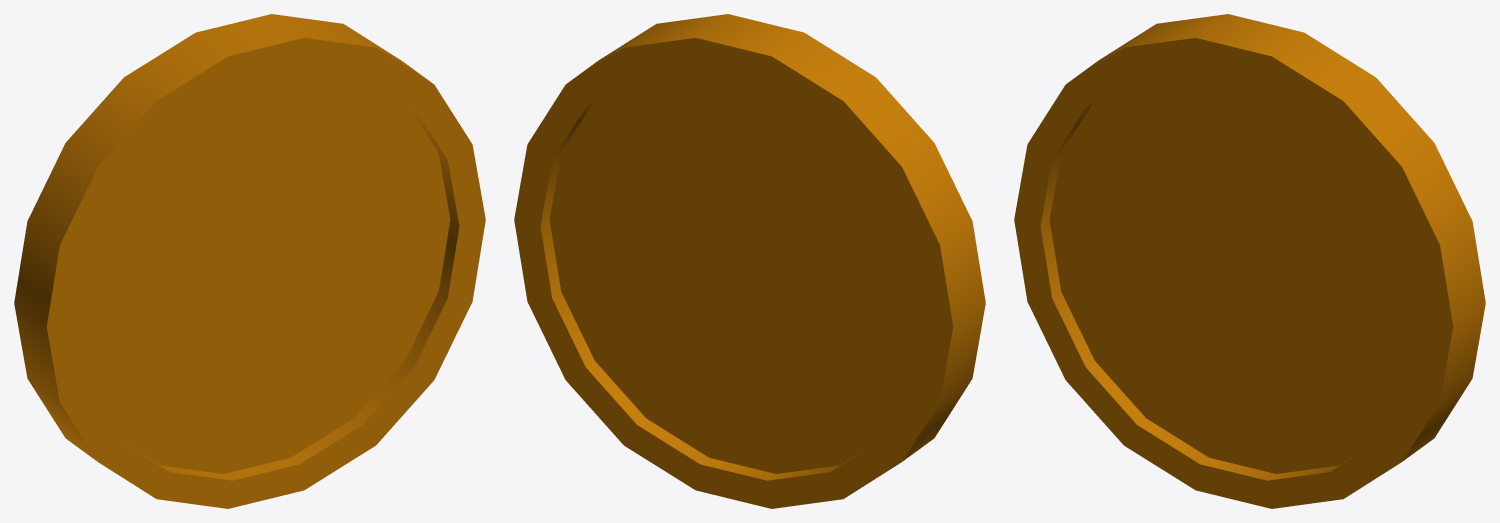
The model's file is Coin.FBX.
3 renders of one model, left to right at view 1: azimuth 30°, elevation 25°; view 2: azimuth 150°, elevation 25°; view 3: azimuth 330°, elevation 25°, orthographic.
Visible parts, largest first — view 1: Coin; view 2: Coin; view 3: Coin.
Part boxes in pixels (box(x1,y1,x2,y2)): Coin: box(14, 14, 485, 508); Coin: box(514, 14, 985, 508); Coin: box(1014, 14, 1485, 508).
Bounding box in the file's own units: 30.18 × 29.73 × 3.87.
